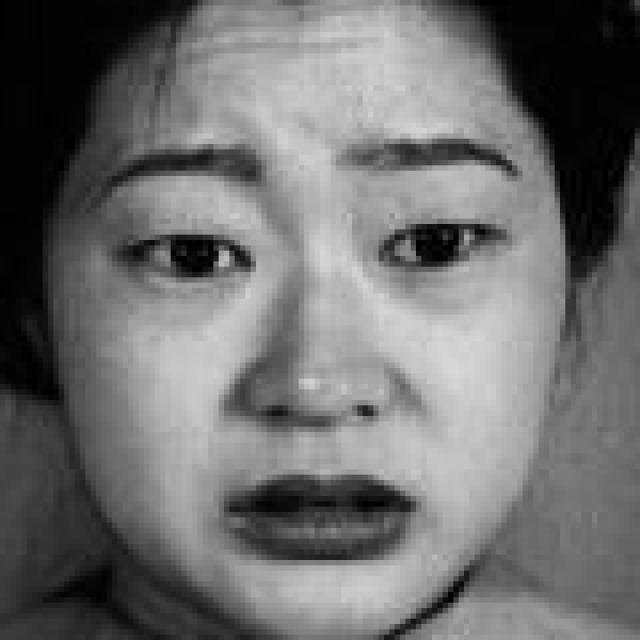fear: (67, 82, 566, 616)
